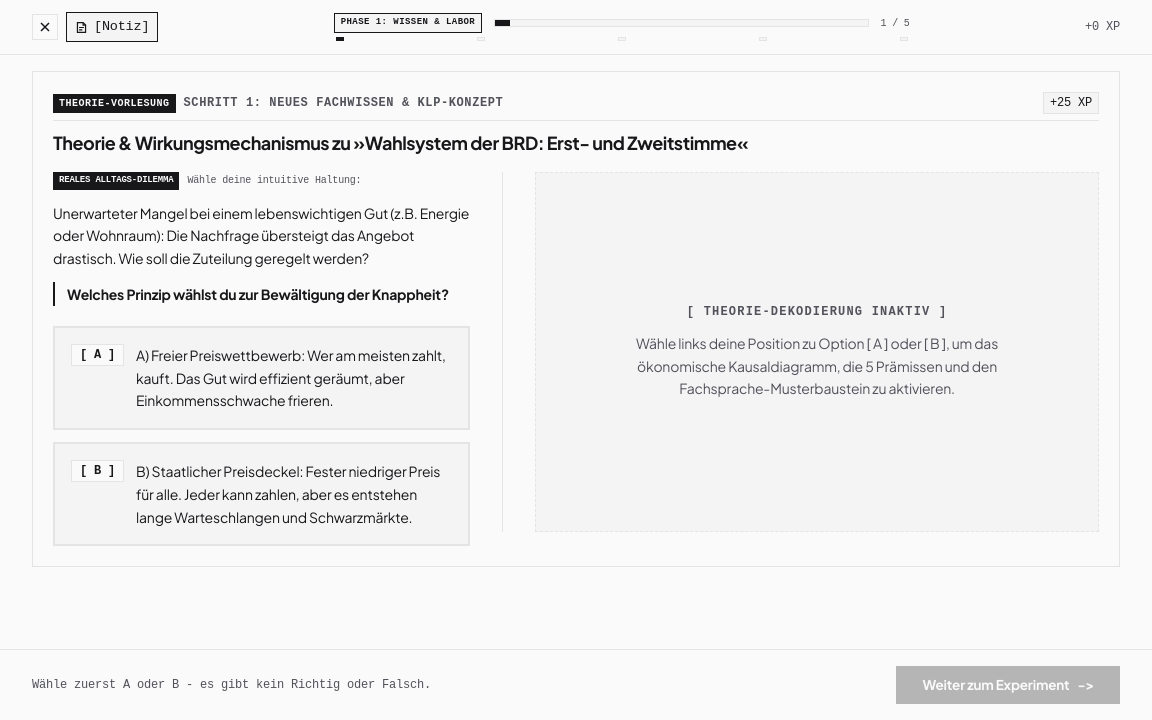
Test: InteractiveLessonRunner Component › advances through Phase 1 (Lecture -> MicroWorld) to Phase 2 (Challenge)
This screenshot has width=1152, height=720.
expect the button "Weiter zum Experiment ->" is disabled: met, box [896,666,1120,704]
What coordinates should you click on to do the following:
click the button "[ A ]"
I would click on:
 (262, 378)
Its box is [53,326,470,430].
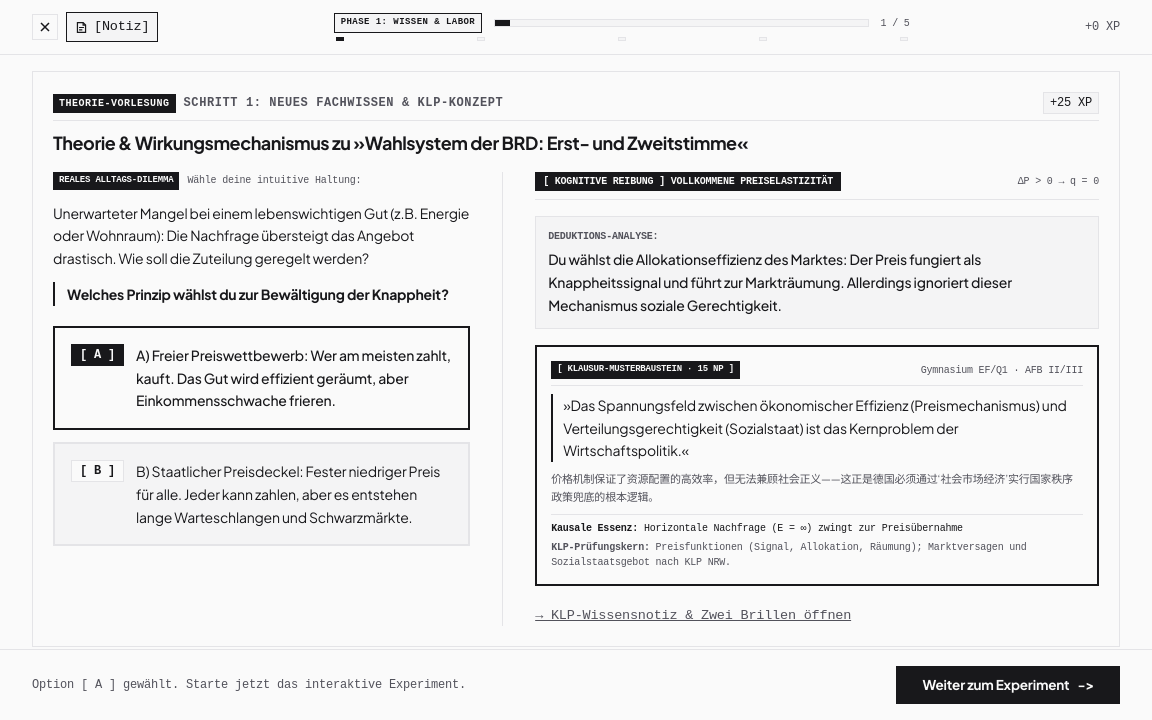
expect the button "Weiter zum Experiment ->" is enabled: met
What coordinates should you click on to do the following:
click the button "Weiter zum Experiment ->"
I would click on:
 (1008, 685)
Its box is [896,666,1120,704].
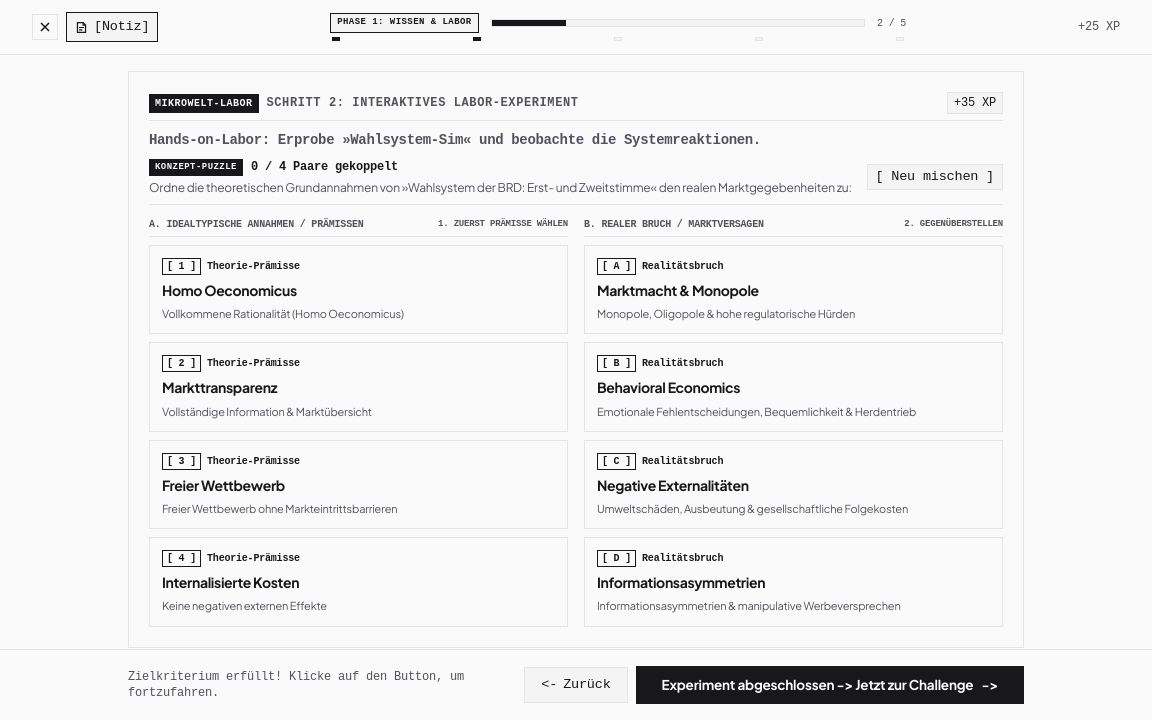
expect the text "Schritt 2: Interaktives Labor-Experiment" is shown: met, box [266,95,578,111]
expect the text "2 / 5" is shown: met, box [877,16,906,31]
What coordinates should you click on to do the following:
click the button "Experiment abgeschlossen -> Jetzt zur Challenge ->"
I would click on:
 (830, 685)
Its box is [636,666,1024,704].
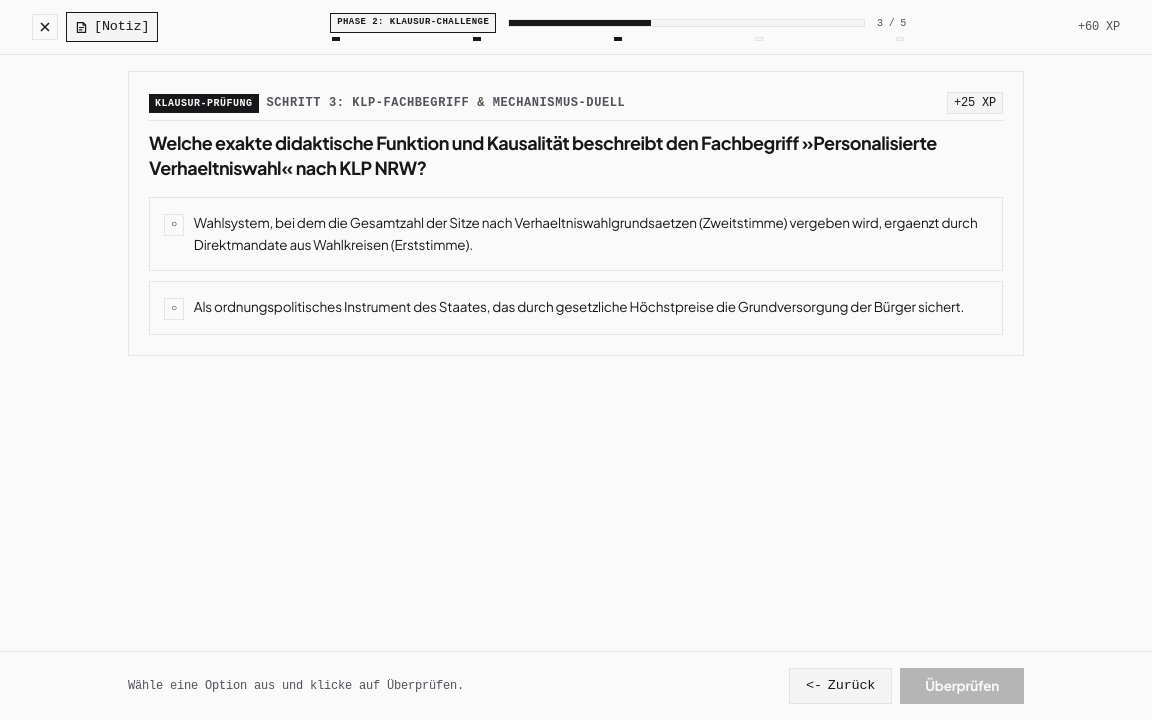
expect the text "Schritt 3: KLP-Fachbegriff & Mechanismus-Duell" is shown: met, box [266,95,625,111]
expect the text "3 / 5" is shown: met, box [877,16,906,31]
What coordinates should you click on to do the following:
click the 3rd button
I would click on:
 (576, 234)
Its box is [149,197,1003,271].
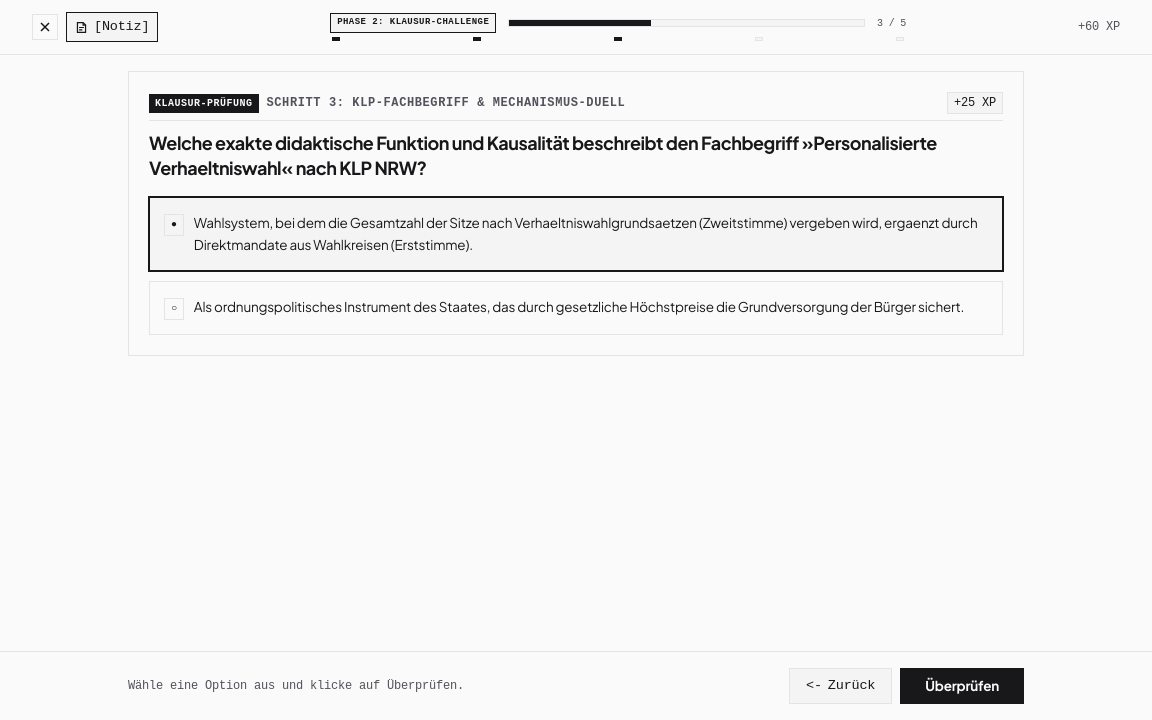
Note: 点击 Überprüfen
What coordinates should you click on to do the following:
click the button "Überprüfen"
I would click on:
 (962, 686)
Its box is [900,668,1024,704].
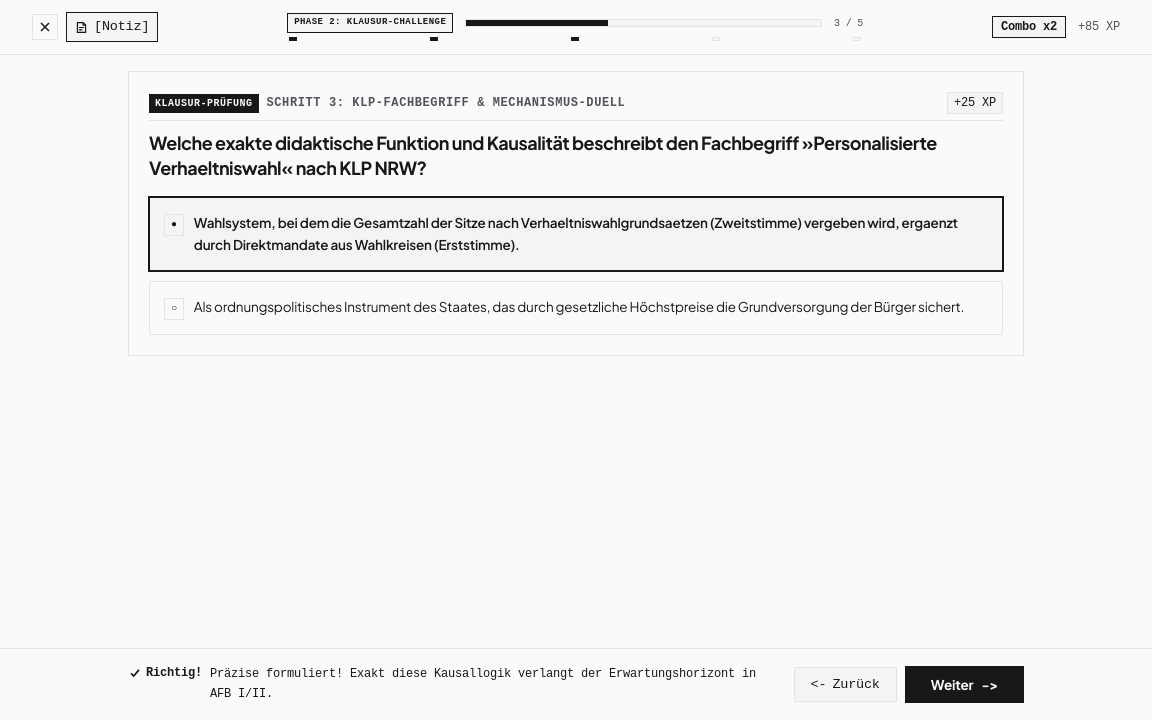
expect the text "Richtig!" is shown: met, box [146,665,202,681]
Note: 点击 Weiter 进入第 4 步
What coordinates should you click on to do the following:
click the button "Weiter ->"
I would click on:
 (964, 684)
Its box is [905,666,1024,704].
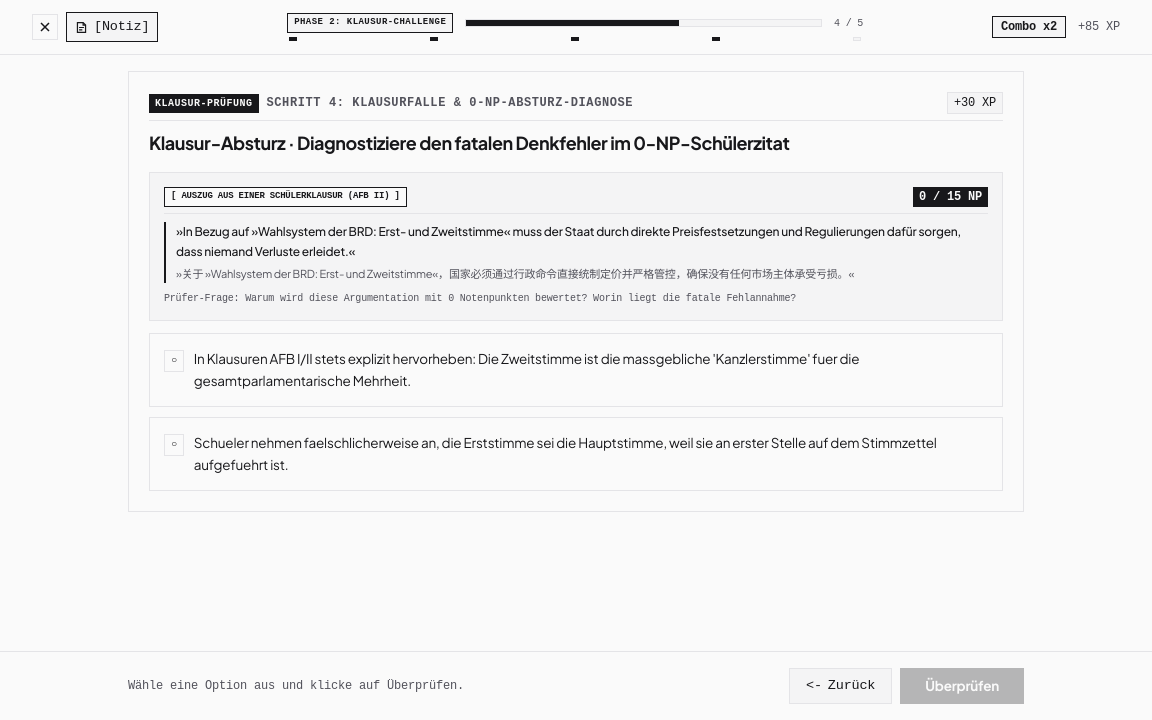
expect the text "Schritt 4: Klausurfalle & 0-NP-Absturz-Diagnose" is shown: met, box [266,95,633,111]
expect the text "4 / 5" is shown: met, box [834,16,863,31]
